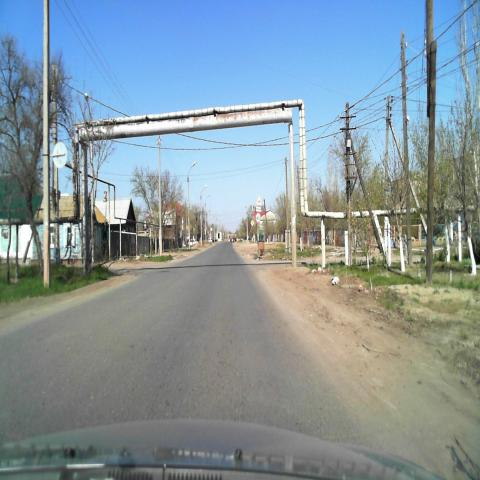1_23: (255, 195, 262, 205)
2_1: (250, 220, 255, 227)
3_24: (255, 213, 261, 222)
